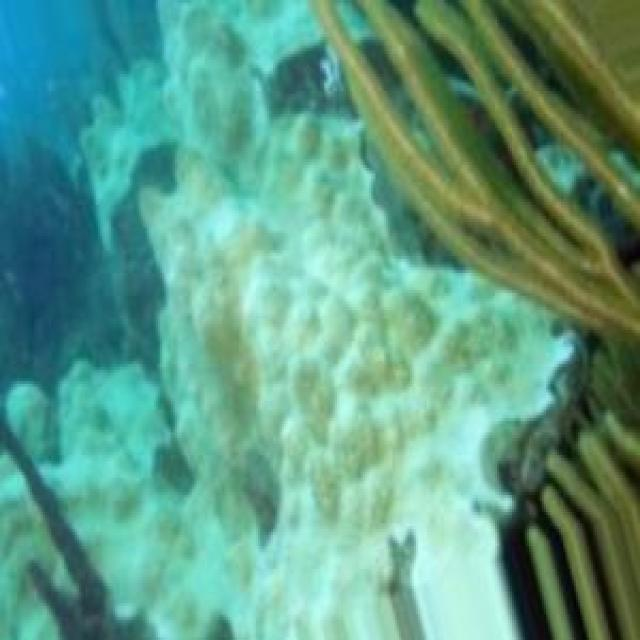Bleached: (1, 1, 556, 635)
